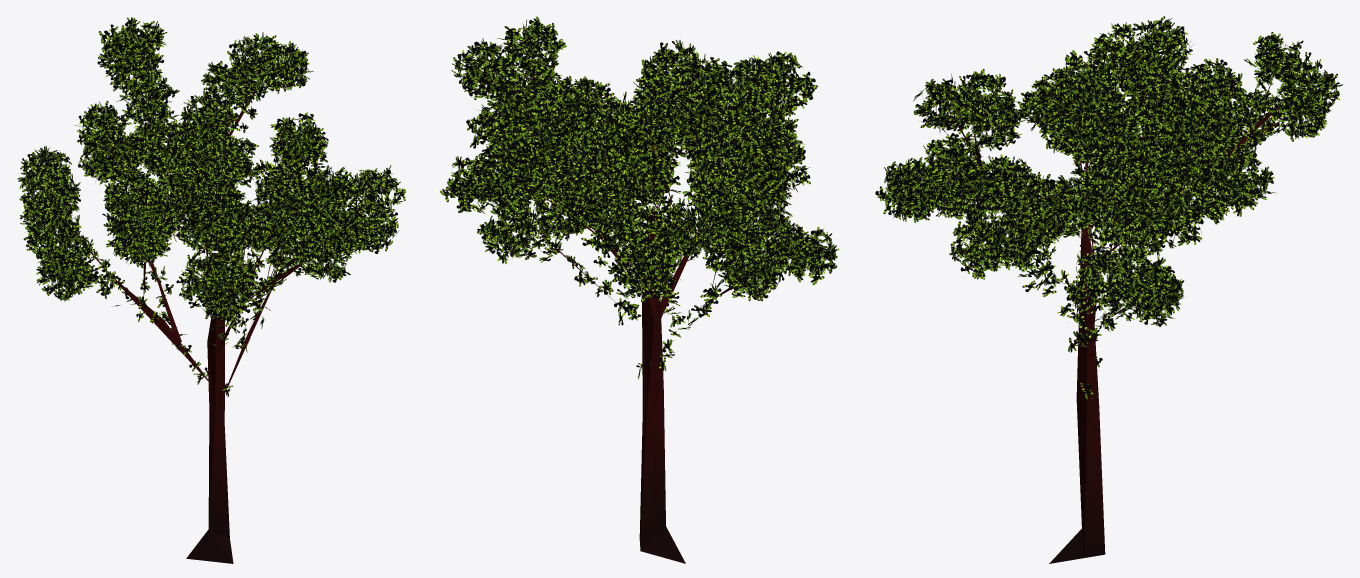
Rendered from emergent_fig_v03_LOD1.glb.
3 renders of one model, left to right at view 1: azimuth 30°, elevation 25°; view 2: azimuth 150°, elevation 25°; view 3: azimuth 270°, elevation 25°, orthographic. The views are drawn at different scales.
Visible parts, largest first — view 1: emergent_fig_v03_LOD1; view 2: emergent_fig_v03_LOD1; view 3: emergent_fig_v03_LOD1.
Boxes of the visible parts, bbox=[...] form: emergent_fig_v03_LOD1: bbox=[17, 17, 406, 563]; emergent_fig_v03_LOD1: bbox=[440, 16, 839, 563]; emergent_fig_v03_LOD1: bbox=[875, 16, 1342, 563].
Size of the model in its own units: 36.83 by 51.11 by 40.6.
Materials: 2 (2 with a texture image).
